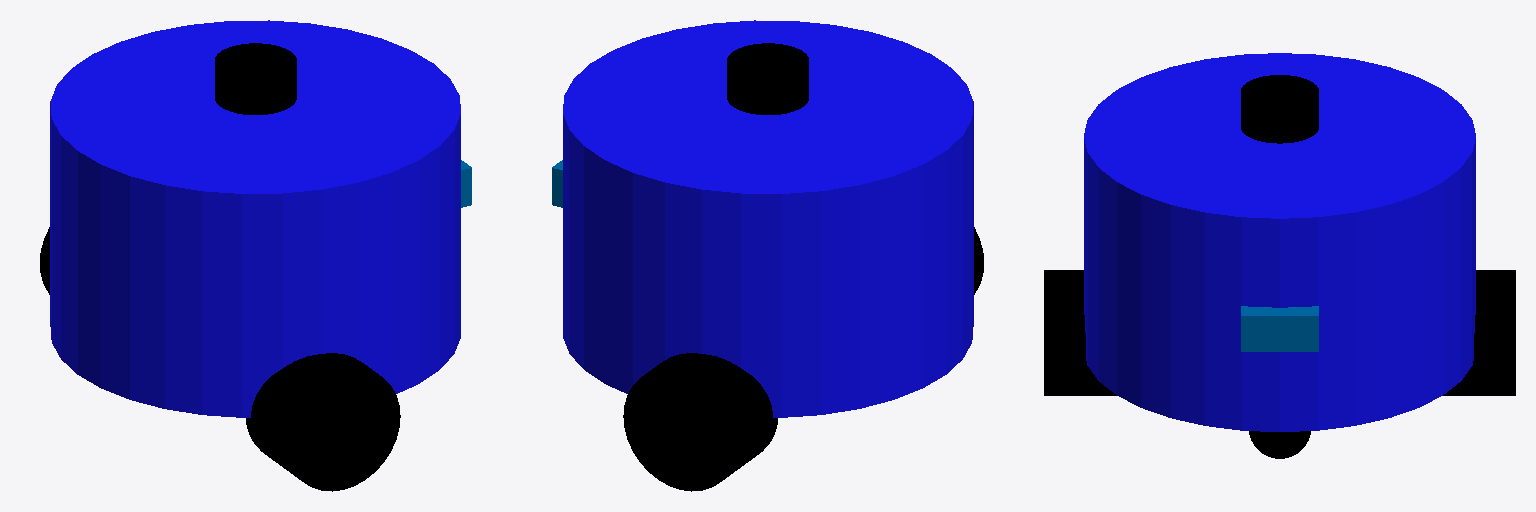
robot.urdf — fishbot:
<?xml version="1.0"?>
<robot name="fishbot">


  <!-- Robot Footprint -->
  <link name="base_footprint"/>

  <joint name="base_joint" type="fixed">
    <parent link="base_footprint"/>
    <child link="base_link"/>
    <origin xyz="0.0 0.0 0.076" rpy="0 0 0"/>
  </joint>


  <!-- base link -->
  <link name="base_link">
  	<visual>
      <origin xyz="0 0 0.0" rpy="0 0 0"/>
      <geometry>
		<cylinder length="0.12" radius="0.10"/>
      </geometry>
      <material name="blue">
      	<color rgba="0.1 0.1 1.0 0.5" /> 
      </material>
    </visual>
    <collision>
      <origin xyz="0 0 0.0" rpy="0 0 0"/>
      <geometry>
		<cylinder length="0.12" radius="0.10"/>
      </geometry>
      <material name="blue">
      	<color rgba="0.1 0.1 1.0 0.5" /> 
      </material>
    </collision>
    <inertial>
      <mass value="0.2"/>
      <inertia ixx="0.0122666" ixy="0" ixz="0" iyy="0.0122666" iyz="0" izz="0.02"/>
    </inertial>
  </link>
    
  <!-- laser link -->
  <link name="laser_link">
    <visual>
      <origin xyz="0 0 0" rpy="0 0 0"/>
      <geometry>
        <cylinder length="0.02" radius="0.02"/>
      </geometry>
      <material name="black">
        <color rgba="0.0 0.0 0.0 0.5" /> 
      </material>
    </visual>
    <collision>
      <origin xyz="0 0 0" rpy="0 0 0"/>
      <geometry>
        <cylinder length="0.02" radius="0.02"/>
      </geometry>
      <material name="black">
        <color rgba="0.0 0.0 0.0 0.5" /> 
      </material>
    </collision>
    <inertial>
    <mass value="0.1"/>
      <inertia ixx="0.000190416666667" ixy="0" ixz="0" iyy="0.0001904" iyz="0" izz="0.00036"/>
    </inertial>
  </link>
  
  <!-- laser joint -->
  <joint name="laser_joint" type="fixed">
      <parent link="base_link" />
      <child link="laser_link" />
      <origin xyz="0 0 0.075" />
  </joint>

  <link name="imu_link">
  	<visual>
      <origin xyz="0 0 0.0" rpy="0 0 0"/>
      <geometry>
		    <box size="0.02 0.02 0.02"/>
      </geometry>
      <material>
        <color rgba="0.0 0.0 1.0 0.0"/>  
      </material>
    </visual>
    <collision>
      <origin xyz="0 0 0.0" rpy="0 0 0"/>
      <geometry>
		    <box size="0.02 0.02 0.02"/>
      </geometry>
    </collision>
    <inertial>
      <mass value="0.1"/>
        <inertia ixx="0.000190416666667" ixy="0" ixz="0" iyy="0.0001904" iyz="0" izz="0.00036"/>
      </inertial>
  </link>

  <!-- imu joint -->
  <joint name="imu_joint" type="fixed">
      <parent link="base_link" />
      <child link="imu_link" />
      <origin xyz="0 0 0.02" />
  </joint>


<link name="camera_link">
  	<visual>
      <origin xyz="0 0 0.0" rpy="0 0 0"/>
      <geometry>
		    <box size="0.02 0.04 0.02"/>
      </geometry>
    </visual>
    <collision>
      <origin xyz="0 0 0.0" rpy="0 0 0"/>
      <geometry>
		    <box size="0.02 0.04 0.02"/>
      </geometry>
    </collision>
    <inertial>
      <mass value="0.1"/>
        <inertia ixx="0.000190416666667" ixy="0" ixz="0" iyy="0.0001904" iyz="0" izz="0.00036"/>
      </inertial>
  </link>

  <!-- imu joint -->
  <joint name="camera_joint" type="fixed">
      <parent link="base_link" />
      <child link="camera_link" />
      <origin xyz="0.10 0 0" />
  </joint>


  <link name="left_wheel_link">
      <visual>
        <origin xyz="0 0 0" rpy="1.57079 0 0"/>
        <geometry>
          <cylinder length="0.04" radius="0.032"/>
        </geometry>
          <material name="black">
            <color rgba="0.0 0.0 0.0 0.5" /> 
          </material>
      </visual>
      <collision>
        <origin xyz="0 0 0" rpy="1.57079 0 0"/>
        <geometry>
          <cylinder length="0.04" radius="0.032"/>
        </geometry>
          <material name="black">
            <color rgba="0.0 0.0 0.0 0.5" /> 
          </material>
      </collision>
      <inertial>
        <mass value="0.2"/>
          <inertia ixx="0.000190416666667" ixy="0" ixz="0" iyy="0.0001904" iyz="0" izz="0.00036"/>
        </inertial>
  </link>
    
  <link name="right_wheel_link">
      <visual>
        <origin xyz="0 0 0" rpy="1.57079 0 0"/>
        <geometry>
          <cylinder length="0.04" radius="0.032"/>
        </geometry>
          <material name="black">
            <color rgba="0.0 0.0 0.0 0.5" /> 
          </material>1 
      </visual>
      <collision>
        <origin xyz="0 0 0" rpy="1.57079 0 0"/>
        <geometry>
          <cylinder length="0.04" radius="0.032"/>
        </geometry>
          <material name="black">
            <color rgba="0.0 0.0 0.0 0.5" /> 
          </material>
      </collision>
      <inertial>
      <mass value="0.2"/>
      <inertia ixx="0.000190416666667" ixy="0" ixz="0" iyy="0.0001904" iyz="0" izz="0.00036"/>
    </inertial>
  </link>
    
  <joint name="left_wheel_joint" type="continuous">
      <parent link="base_link" />
      <child link="left_wheel_link" />
      <origin xyz="-0.02 0.10 -0.06" />
      <axis xyz="0 1 0" />
  </joint>

  <joint name="right_wheel_joint" type="continuous">
      <parent link="base_link" />
      <child link="right_wheel_link" />
      <origin xyz="-0.02 -0.10 -0.06" />
      <axis xyz="0 1 0" />
  </joint>

  <link name="caster_link">
      <visual>
        <origin xyz="0 0 0" rpy="1.57079 0 0"/>
        <geometry>
            <sphere radius="0.016"/>
        </geometry>
          <material name="black">
            <color rgba="0.0 0.0 0.0 0.5" /> 
          </material>
      </visual>
      <collision>
        <origin xyz="0 0 0" rpy="1.57079 0 0"/>
        <geometry>
            <sphere radius="0.016"/>
        </geometry>
          <material name="black">
            <color rgba="0.0 0.0 0.0 0.5" /> 
          </material>
      </collision>
      <inertial>
      <mass value="0.02"/>
      <inertia ixx="0.000190416666667" ixy="0" ixz="0" iyy="0.0001904" iyz="0" izz="0.00036"/>
    </inertial>
  </link>
    
  <joint name="caster_joint" type="fixed">
      <parent link="base_link" />
      <child link="caster_link" />
      <origin xyz="0.06 0.0 -0.076" />
      <axis xyz="0 1 0" />
  </joint>



  <gazebo reference="caster_link">
    <material>Gazebo/Black</material>
  </gazebo>

  <gazebo reference="caster_link">
    <mu1 value="0.0"/>
    <mu2 value="0.0"/>
    <kp value="1000000.0" />
    <kd value="10.0" />
  </gazebo>


  <gazebo>
    <plugin name='diff_drive' filename='libgazebo_ros_diff_drive.so'>
          <ros>
            <namespace>/</namespace>
            <remapping>cmd_vel:=cmd_vel</remapping>
            <remapping>odom:=odom</remapping>
          </ros>
          <update_rate>30</update_rate>
          <!-- wheels -->
          <left_joint>left_wheel_joint</left_joint>
          <right_joint>right_wheel_joint</right_joint>
          <!-- kinematics -->
          <wheel_separation>0.2</wheel_separation>
          <wheel_diameter>0.065</wheel_diameter>
          <!-- limits -->
          <max_wheel_torque>20</max_wheel_torque>
          <max_wheel_acceleration>1.0</max_wheel_acceleration>
          <!-- output -->
          <publish_odom>true</publish_odom>
          <publish_odom_tf>true</publish_odom_tf>
          <publish_wheel_tf>true</publish_wheel_tf>
          <odometry_frame>odom</odometry_frame>
          <robot_base_frame>base_footprint</robot_base_frame>
      </plugin>
    </gazebo> 

    <gazebo reference="imu_link">
      <sensor name="imu_sensor" type="imu">
      <plugin filename="libgazebo_ros_imu_sensor.so" name="imu_plugin">
          <ros>
            <namespace>/</namespace>
            <remapping>~/out:=imu</remapping>
          </ros>
          <initial_orientation_as_reference>false</initial_orientation_as_reference>
        </plugin>
        <always_on>true</always_on>
        <update_rate>100</update_rate>
        <visualize>true</visualize>
        <imu>
          <angular_velocity>
            <x>
              <noise type="gaussian">
                <mean>0.0</mean>
                <stddev>2e-4</stddev>
                <bias_mean>0.0000075</bias_mean>
                <bias_stddev>0.0000008</bias_stddev>
              </noise>
            </x>
            <y>
              <noise type="gaussian">
                <mean>0.0</mean>
                <stddev>2e-4</stddev>
                <bias_mean>0.0000075</bias_mean>
                <bias_stddev>0.0000008</bias_stddev>
              </noise>
            </y>
            <z>
              <noise type="gaussian">
                <mean>0.0</mean>
                <stddev>2e-4</stddev>
                <bias_mean>0.0000075</bias_mean>
                <bias_stddev>0.0000008</bias_stddev>
              </noise>
            </z>
          </angular_velocity>
          <linear_acceleration>
            <x>
              <noise type="gaussian">
                <mean>0.0</mean>
                <stddev>1.7e-2</stddev>
                <bias_mean>0.1</bias_mean>
                <bias_stddev>0.001</bias_stddev>
              </noise>
            </x>
            <y>
              <noise type="gaussian">
                <mean>0.0</mean>
                <stddev>1.7e-2</stddev>
                <bias_mean>0.1</bias_mean>
                <bias_stddev>0.001</bias_stddev>
              </noise>
            </y>
            <z>
              <noise type="gaussian">
                <mean>0.0</mean>
                <stddev>1.7e-2</stddev>
                <bias_mean>0.1</bias_mean>
                <bias_stddev>0.001</bias_stddev>
              </noise>
            </z>
          </linear_acceleration>
        </imu>
      </sensor>
    </gazebo>

  <gazebo reference="laser_link">
      <sensor name="laser_sensor" type="ray">
      <always_on>true</always_on>
      <visualize>true</visualize>
      <update_rate>10</update_rate>
      <pose>0 0 0.075 0 0 0</pose>
      <ray>
          <scan>
            <horizontal>
              <samples>360</samples>
              <resolution>1.000000</resolution>
              <min_angle>0.000000</min_angle>
              <max_angle>6.280000</max_angle>
            </horizontal>
          </scan>
          <range>
            <min>0.120000</min>
            <max>3.5</max>
            <resolution>0.015000</resolution>
          </range>
          <noise>
            <type>gaussian</type>
            <mean>0.0</mean>
            <stddev>0.01</stddev>
          </noise>
      </ray>

      <plugin name="laserscan" filename="libgazebo_ros_ray_sensor.so">
        <ros>
          <remapping>~/out:=scan</remapping>
        </ros>
        <output_type>sensor_msgs/LaserScan</output_type>
        <frame_name>laser_link</frame_name>
      </plugin>
      </sensor>
    </gazebo>

    <gazebo reference="camera_link">
      <sensor name="camera_sensor" type="camera">
      <always_on>true</always_on>
      <visualize>true</visualize>
       <update_rate>30.0</update_rate>
      <camera name="head">
        <!--匹配物理相机硬件上制造商提供的规格数据-->
        <horizontal_fov>1.3962634</horizontal_fov>
        <image>
          <width>800</width>
          <height>800</height>
          <format>R8G8B8</format>
        </image>
        <clip>
          <near>0.02</near>
          <far>300</far>
        </clip>
        <noise>
          <type>gaussian</type>
          <!-- Noise is sampled independently per pixel on each frame.
               That pixel's noise value is added to each of its color
               channels, which at that point lie in the range [0,1]. -->
          <mean>0.0</mean>
          <stddev>0.007</stddev>
        </noise>
      </camera>

     <plugin name="camera_plugin" filename="libgazebo_ros_camera.so">
      <ros>
        <!-- 命名空间设置 -->
        <namespace>/camera</namespace>
        <!-- 图像话题重映射 -->
        <remapping>image_raw:=image</remapping>
      </ros>
      <camera_name>camera</camera_name>
      <frame_name>camera_link</frame_name>
      <hack_baseline>0.07</hack_baseline>
      <always_on>true</always_on>
     </plugin>
     </sensor>
    </gazebo>

</robot>

--- Render facts (derived) ---
3 views of the same robot in one strip: view 1: azimuth 30°, elevation 25°; view 2: azimuth 150°, elevation 25°; view 3: azimuth 270°, elevation 25° (orthographic).
Model fishbot with 8 links and 7 joints (2 continuous, 5 fixed), rooted at base_footprint, posed every joint at zero.
Links seen in each view (by area): view 1: base_link, right_wheel_link, laser_link; view 2: base_link, left_wheel_link, laser_link; view 3: base_link, left_wheel_link, right_wheel_link, laser_link, camera_link, caster_link.
Boxes of the visible links, left/top/right/bottom form: base_link: left=50, top=20, right=460, bottom=417; right_wheel_link: left=246, top=353, right=400, bottom=491; laser_link: left=215, top=43, right=296, bottom=114; base_link: left=563, top=20, right=973, bottom=417; left_wheel_link: left=623, top=353, right=777, bottom=491; laser_link: left=727, top=43, right=808, bottom=114; base_link: left=1084, top=53, right=1475, bottom=431; left_wheel_link: left=1443, top=270, right=1515, bottom=395; right_wheel_link: left=1044, top=270, right=1116, bottom=395; laser_link: left=1241, top=75, right=1318, bottom=143; camera_link: left=1241, top=306, right=1318, bottom=351; caster_link: left=1249, top=431, right=1310, bottom=458.
Size in the robot's own frame: 0.21 by 0.24 by 0.177 metres.
Geometry: primitives only (box / cylinder / sphere), no mesh files.
